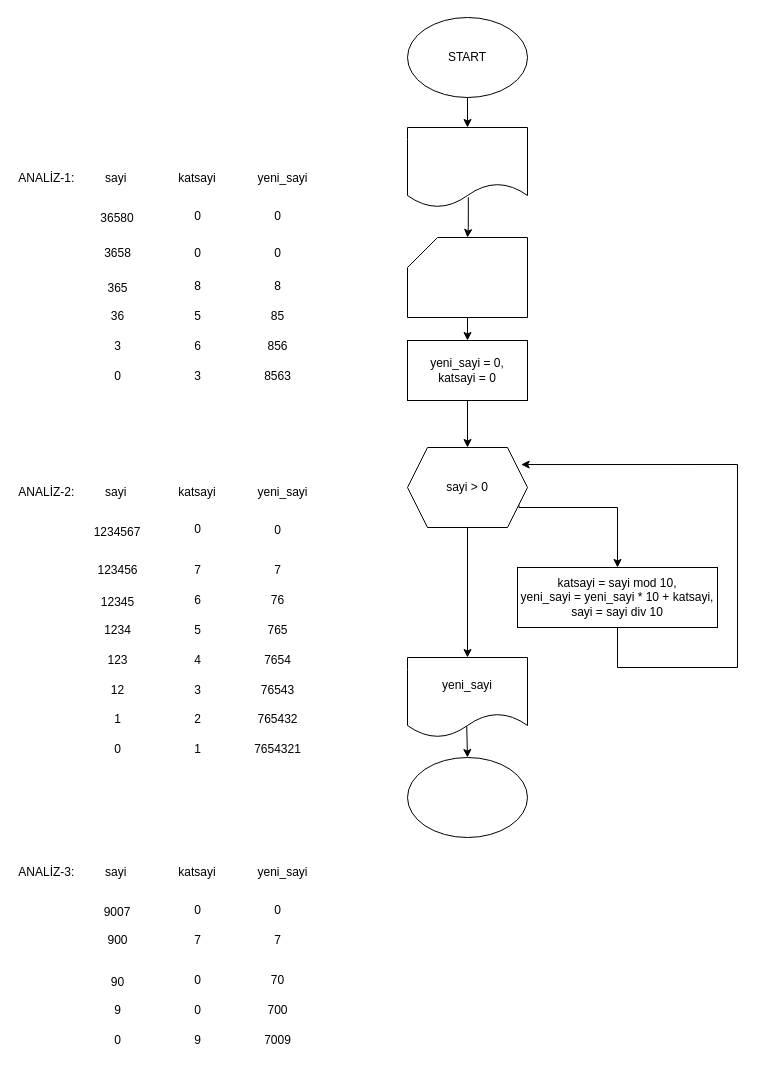
The diagram is 763 pixels wide and 1073 high, and some of its shapes have lost their labels. The shapes that lost their labels are listed below. From the top down, each one's centre as x and y in pixels, then its label:
pixel 467 167: 'Pozitif bir sayı giriniz'
pixel 467 277: sayi
pixel 467 797: STOP
